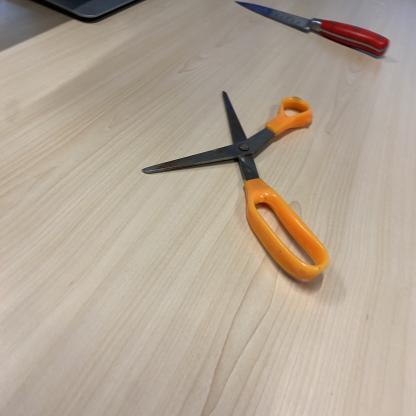Knife: (232, 0, 391, 65)
scissors: (141, 84, 330, 289)
